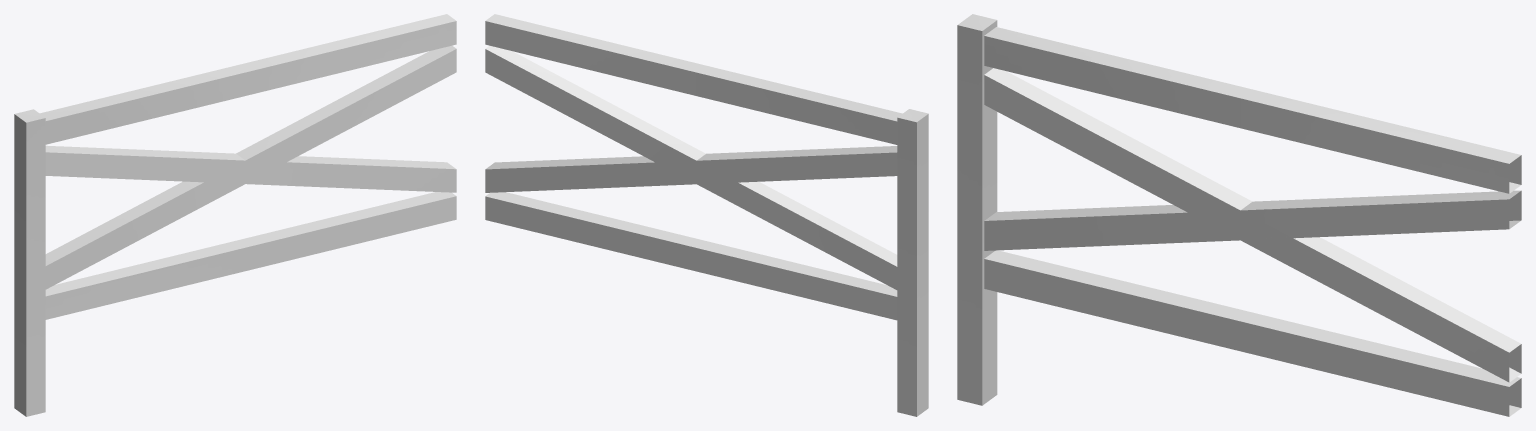
The model's file is street_restaurant_fenceL.FBX.
3 renders of one model, left to right at view 1: azimuth 30°, elevation 25°; view 2: azimuth 150°, elevation 25°; view 3: azimuth 330°, elevation 25°, orthographic. The views are drawn at different scales.
Visible parts, largest first — view 1: street_restaurant_fenceL; view 2: street_restaurant_fenceL; view 3: street_restaurant_fenceL.
Boxes of the visible parts, x1=… form: street_restaurant_fenceL: x1=14, y1=14, x2=456, y2=416; street_restaurant_fenceL: x1=485, y1=14, x2=928, y2=416; street_restaurant_fenceL: x1=957, y1=14, x2=1521, y2=416.
Size of the model in its own units: 105 by 68.06 by 5.
